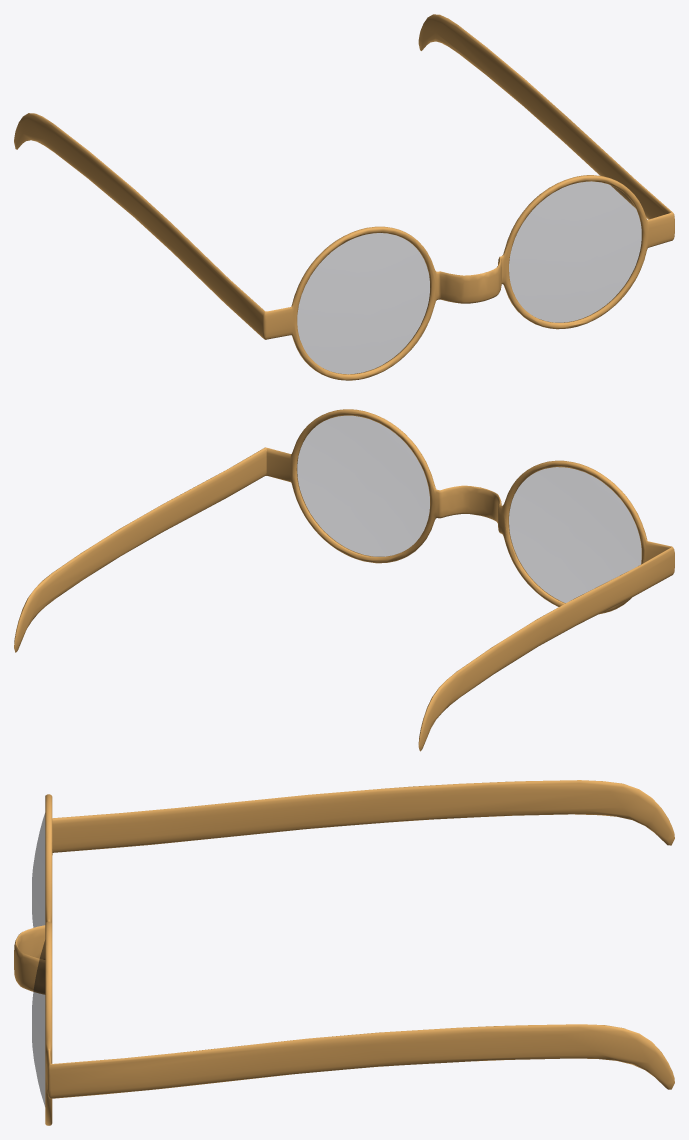
File: eyewear-glasses-yellow-06d20d63.glb
The picture shows the model from 3 angles, top to bottom: view 1: azimuth 30°, elevation 25°; view 2: azimuth 150°, elevation 25°; view 3: azimuth 270°, elevation 25°; orthographic projection. The views are drawn at different scales.
Parts seen in each view (by area): view 1: Geo_White_Old_Male_Glasses_Yellow.001; view 2: Geo_White_Old_Male_Glasses_Yellow.001; view 3: Geo_White_Old_Male_Glasses_Yellow.001.
Boxes of the visible parts, <box> form: Geo_White_Old_Male_Glasses_Yellow.001: <box>14,14,674,380</box>; Geo_White_Old_Male_Glasses_Yellow.001: <box>14,409,674,751</box>; Geo_White_Old_Male_Glasses_Yellow.001: <box>14,780,674,1125</box>.
Bounding box in the file's own units: 1.4 × 0.485 × 1.57.
